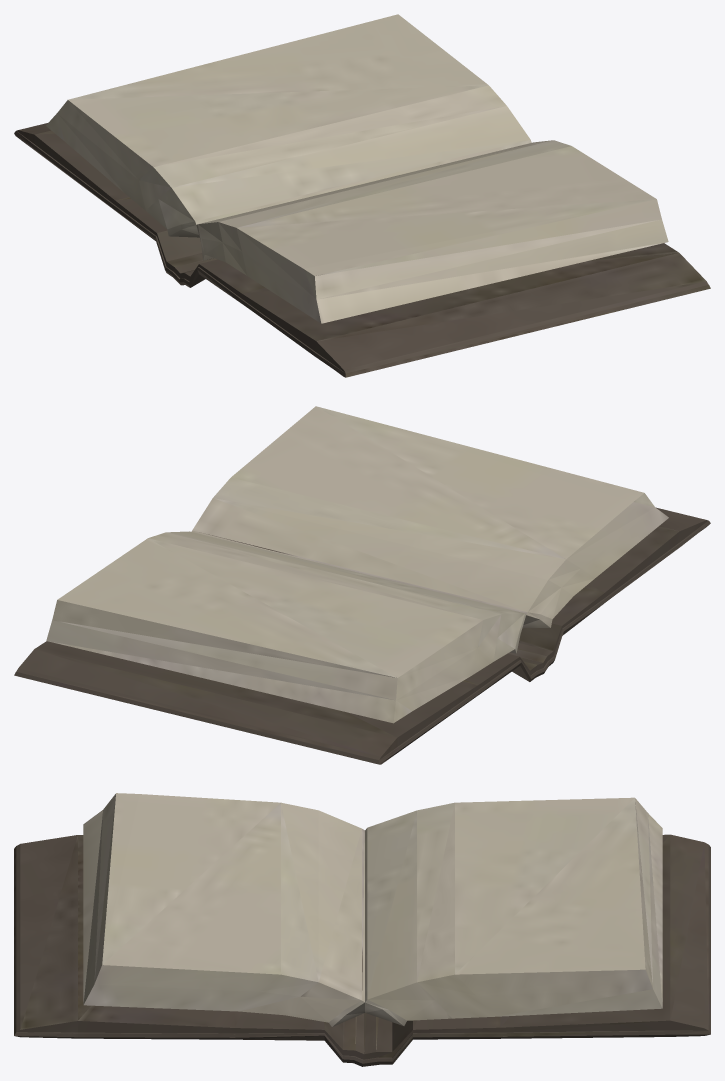
File: diary_open.glb
The picture shows the model from 3 angles, top to bottom: view 1: azimuth 30°, elevation 25°; view 2: azimuth 150°, elevation 25°; view 3: azimuth 270°, elevation 25°; orthographic projection. The views are drawn at different scales.
Visible parts, largest first — view 1: tripo_node_8d50ebaa-344d-46be-9f05-1bcff815ed0a; view 2: tripo_node_8d50ebaa-344d-46be-9f05-1bcff815ed0a; view 3: tripo_node_8d50ebaa-344d-46be-9f05-1bcff815ed0a.
Part boxes in pixels (x1,y1,x2,y2): tripo_node_8d50ebaa-344d-46be-9f05-1bcff815ed0a: (14, 14, 710, 377); tripo_node_8d50ebaa-344d-46be-9f05-1bcff815ed0a: (14, 406, 710, 764); tripo_node_8d50ebaa-344d-46be-9f05-1bcff815ed0a: (14, 793, 710, 1066).
Size of the model in its own units: 0.6372 by 0.1576 by 0.9995.
1 material, 1 textured.
